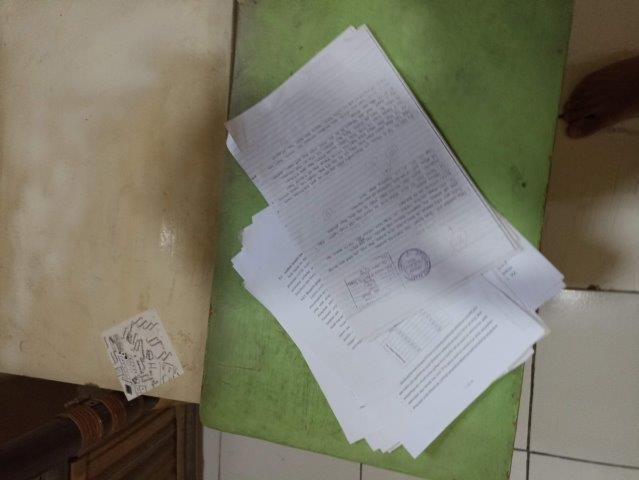kertas: (224, 24, 566, 456)
